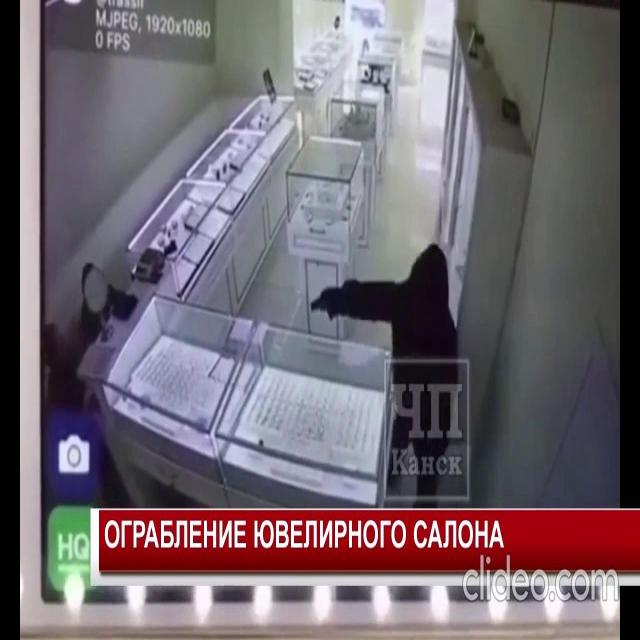gun: (310, 244, 461, 513), (311, 284, 331, 318)
